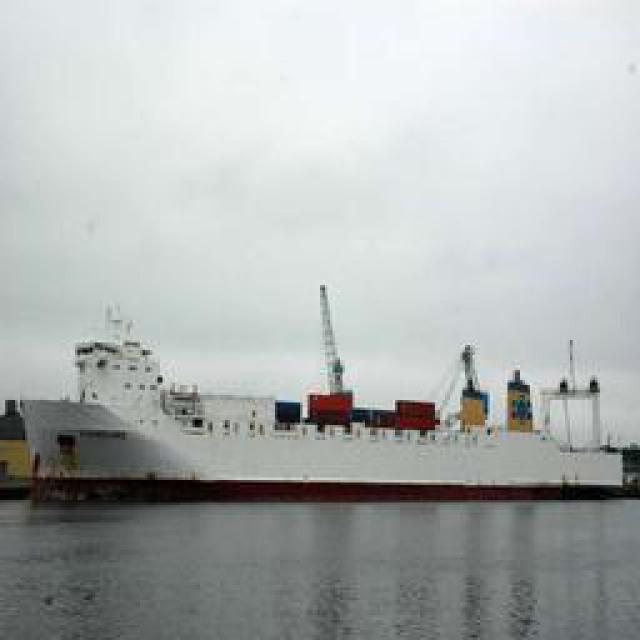Ship: (10, 307, 635, 500)
